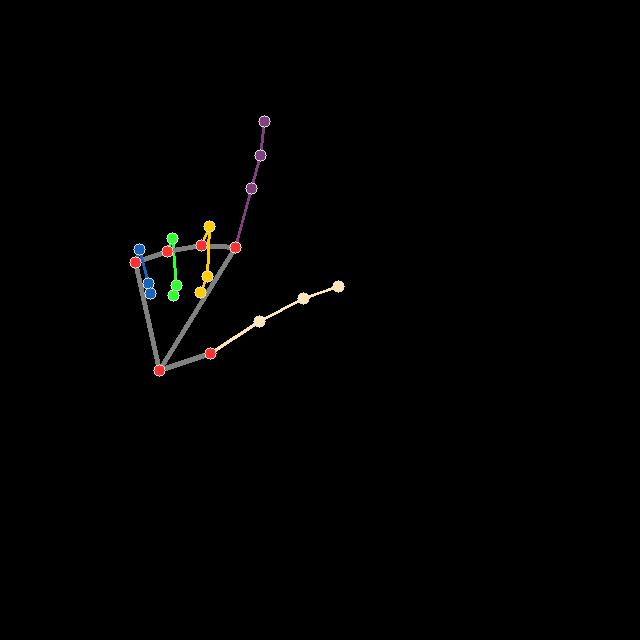gun: (126, 113, 347, 375)
